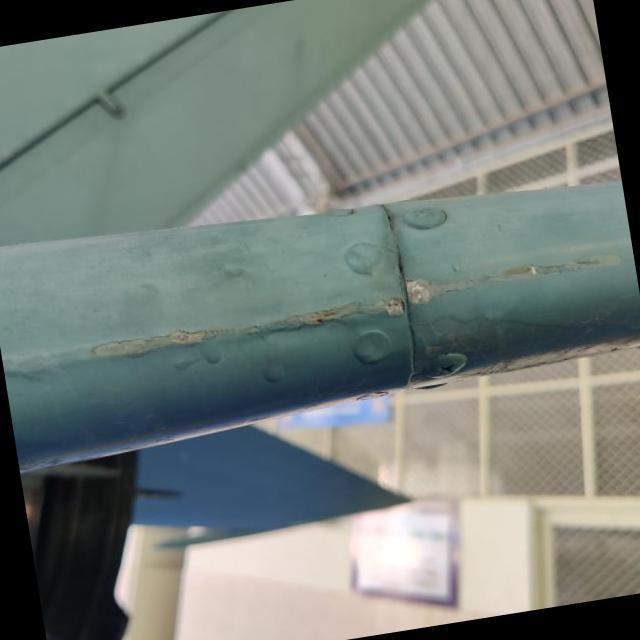Paint-off: (405, 263, 613, 321), (81, 318, 224, 372), (262, 298, 404, 334), (475, 256, 621, 288)
